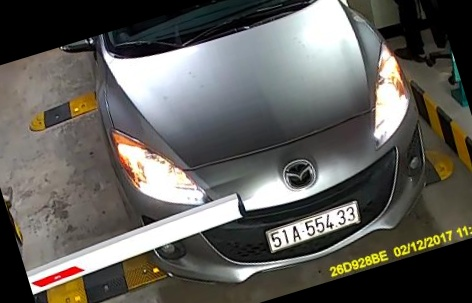plate: (263, 199, 363, 254)
